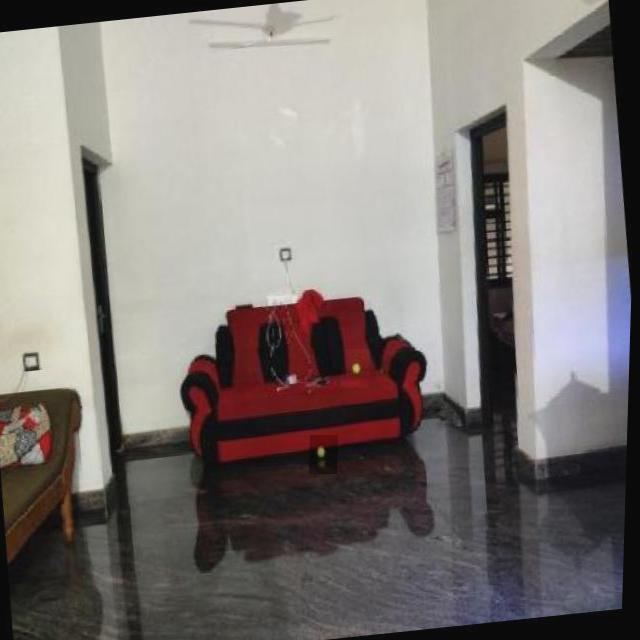-: (312, 435, 341, 474), (343, 349, 372, 388)
